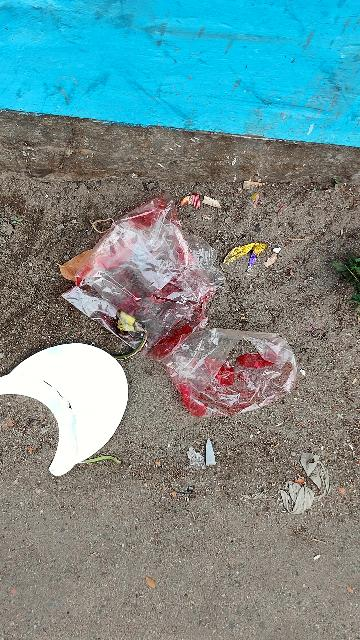polythene: (66, 196, 317, 457)
